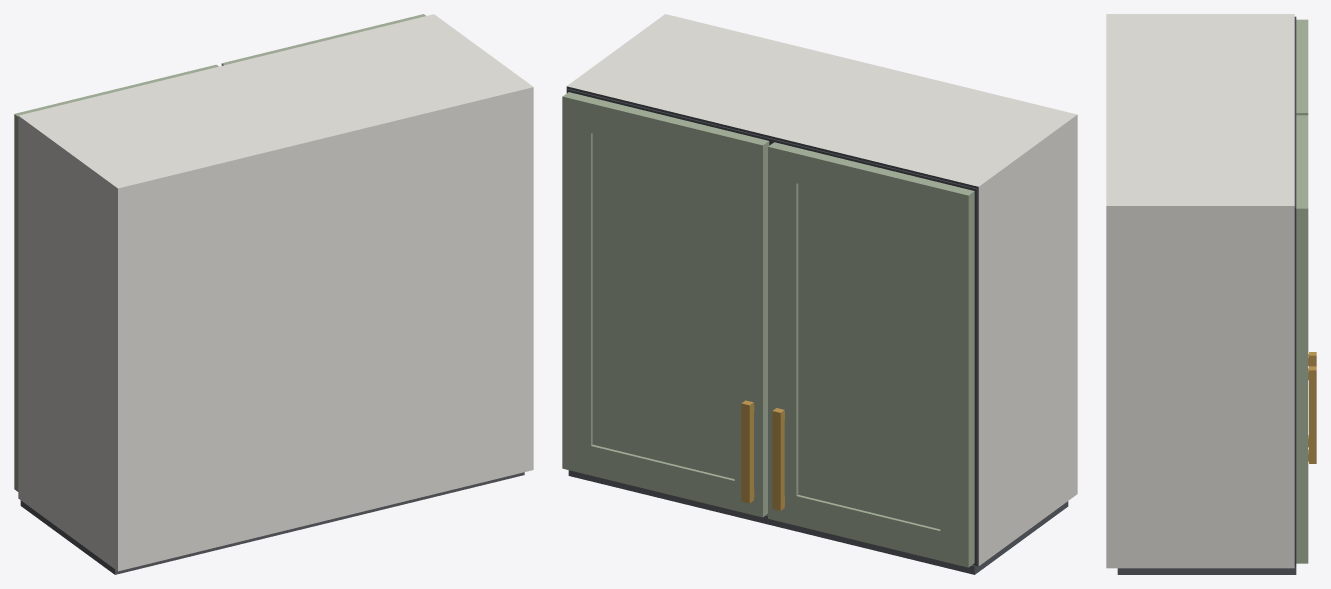
File: FN_Cabinet_Kitchen_Wall.glb
3 renders of one model, left to right at view 1: azimuth 30°, elevation 25°; view 2: azimuth 150°, elevation 25°; view 3: azimuth 270°, elevation 25°, orthographic. The views are drawn at different scales.
Visible parts, largest first — view 1: FN_Cabinet_Kitchen_Wall; view 2: FN_Cabinet_Kitchen_Wall; view 3: FN_Cabinet_Kitchen_Wall.
Part boxes in pixels (x1,y1,x2,y2): FN_Cabinet_Kitchen_Wall: (14,14,533,574); FN_Cabinet_Kitchen_Wall: (562,14,1077,574); FN_Cabinet_Kitchen_Wall: (1106,14,1316,574).
Size of the model in its own units: 0.8 by 0.72 by 0.371.
1 material, 1 textured.
